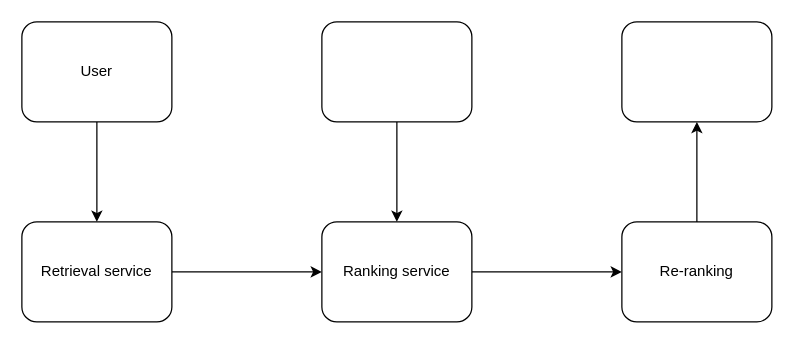
This 794x344 diagram has some shape labels left out. Here are the shapes that lost their labels. From the top down, the centre of each, then its label:
At (396,71): "Model in production".
At (696,71): "Feed".
